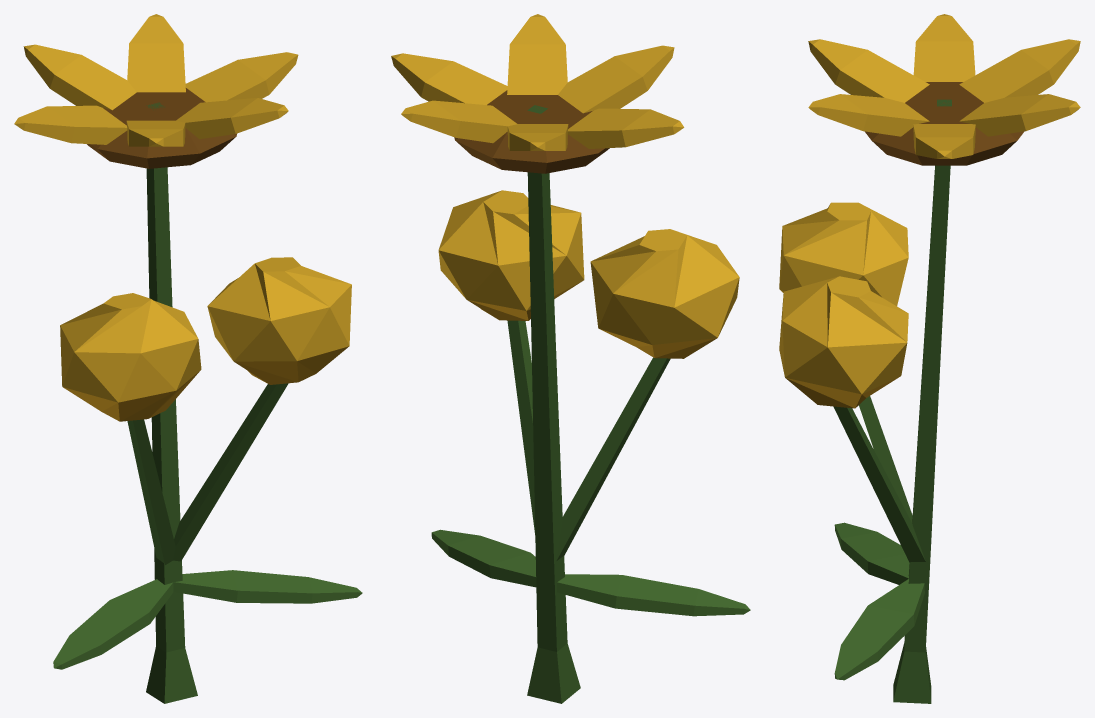
File: flower_gold.gltf
The picture shows the model from 3 angles, left to right: view 1: azimuth 30°, elevation 25°; view 2: azimuth 150°, elevation 25°; view 3: azimuth 270°, elevation 25°; orthographic projection. The views are drawn at different scales.
Parts seen in each view (by area): view 1: flower_gold; view 2: flower_gold; view 3: flower_gold.
Boxes of the visible parts, bbox=[...] form: flower_gold: bbox=[14, 14, 362, 703]; flower_gold: bbox=[391, 14, 750, 703]; flower_gold: bbox=[779, 14, 1080, 703].
Bounding box in the file's own units: 0.195 × 0.3656 × 0.1605.
